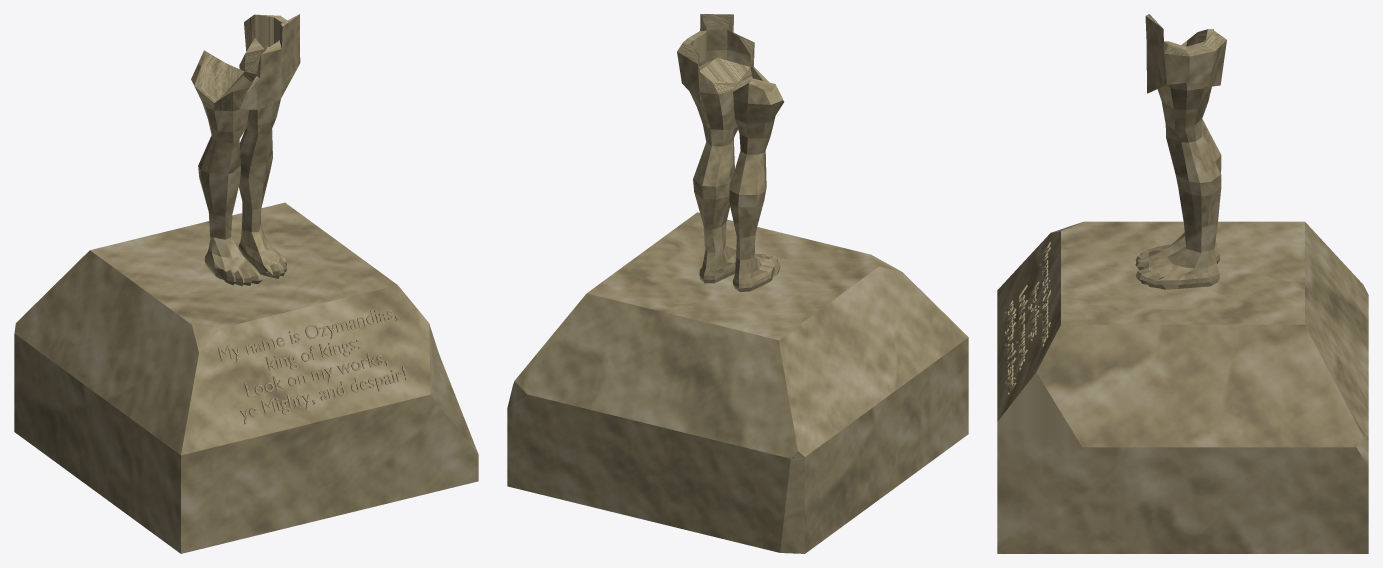
File: Ozymandias_Legs.fbx
3 renders of one model, left to right at view 1: azimuth 30°, elevation 25°; view 2: azimuth 150°, elevation 25°; view 3: azimuth 270°, elevation 25°, orthographic. The views are drawn at different scales.
Visible parts, largest first — view 1: Cube, Text; view 2: Cube; view 3: Cube, Text.
Boxes of the visible parts, x1,y1,x2,y2 form: Cube: (14, 14, 478, 553); Text: (218, 310, 407, 424); Cube: (507, 14, 968, 553); Cube: (997, 14, 1368, 553); Text: (1004, 241, 1050, 395).
Bounding box in the file's own units: 3.05 × 4.28 × 3.05.
